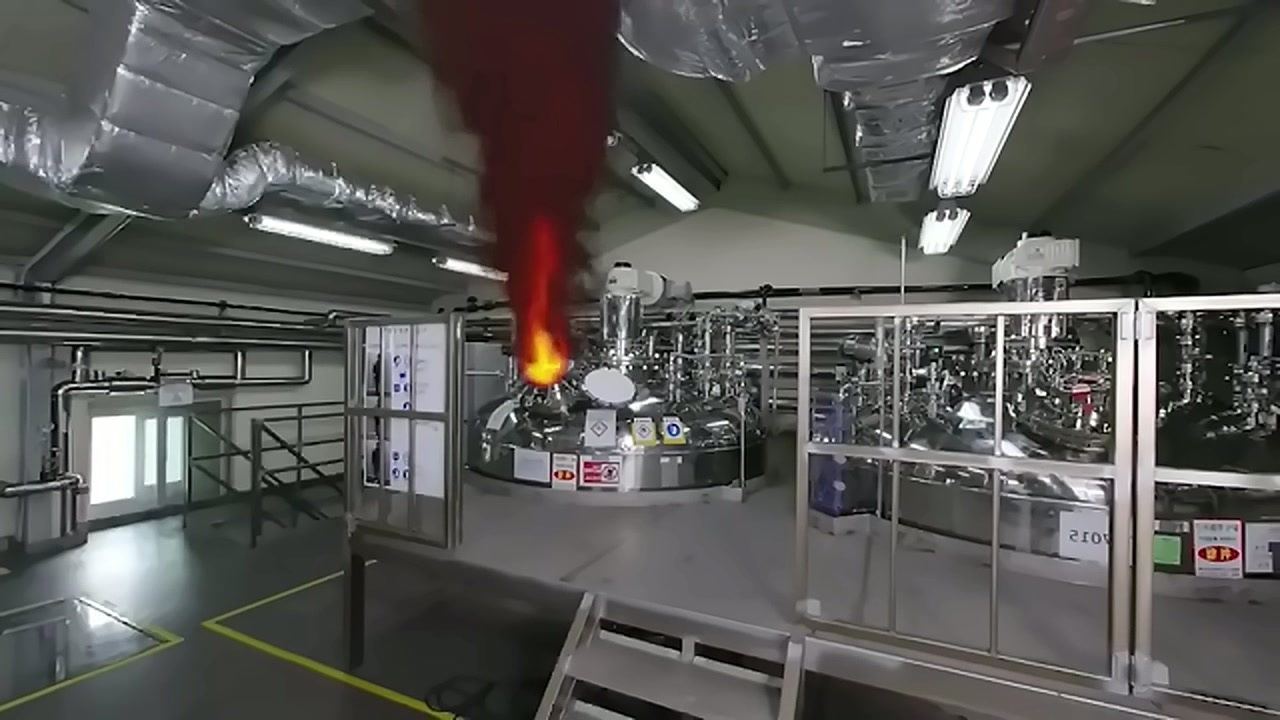fire: (256, 104, 1024, 472)
